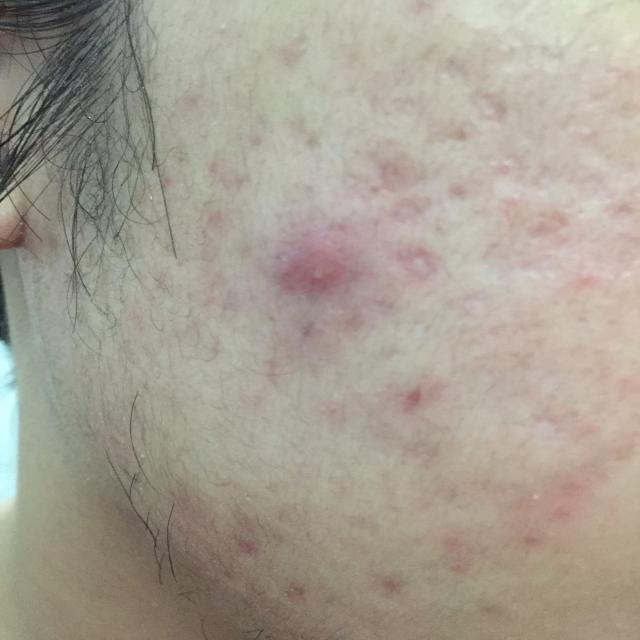blackheads: (275, 237, 364, 306)
